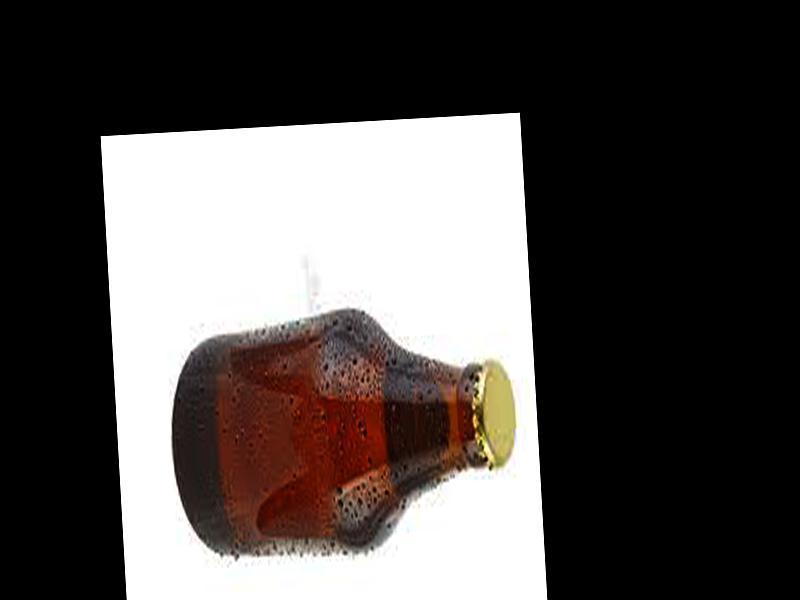Beer: (168, 318, 522, 557)
